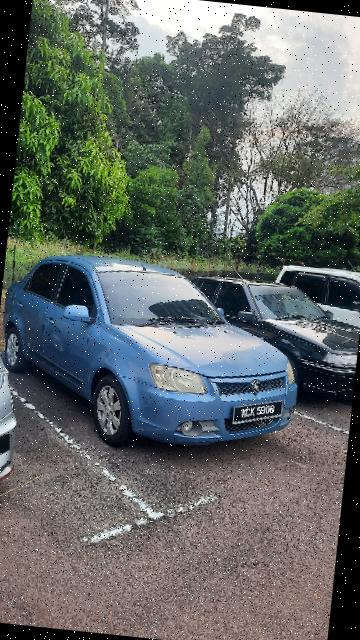License_Plate: (234, 394, 287, 430)
car: (1, 243, 313, 464), (166, 268, 360, 407), (269, 262, 360, 357)
